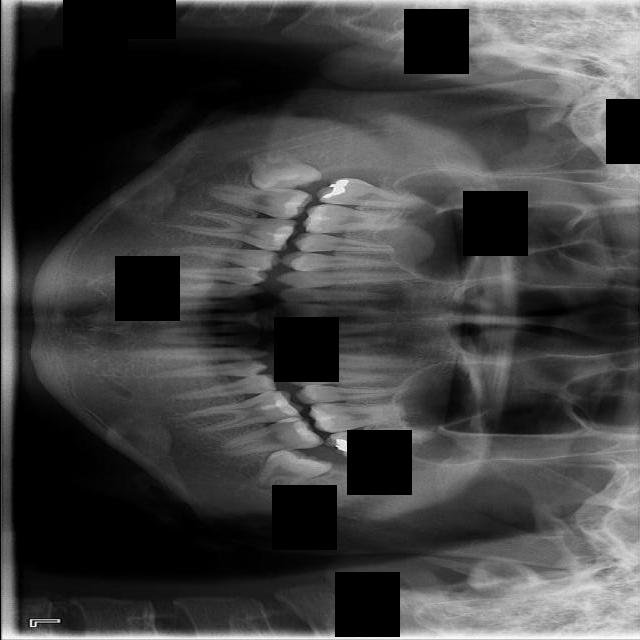52: (272, 408, 322, 460), (259, 186, 312, 222), (315, 176, 371, 207), (251, 390, 303, 422), (249, 219, 296, 252), (323, 431, 372, 459)
73: (16, 623, 26, 632)
BioHorizons Implant: (323, 426, 440, 461)
Biomet 3i Implant: (254, 440, 333, 508)
Blue Sky Bio Implant: (214, 413, 324, 461)
Caries: (316, 176, 428, 213)
Implant: (207, 185, 313, 222)
Keystone Dental Implant: (250, 149, 321, 195)
